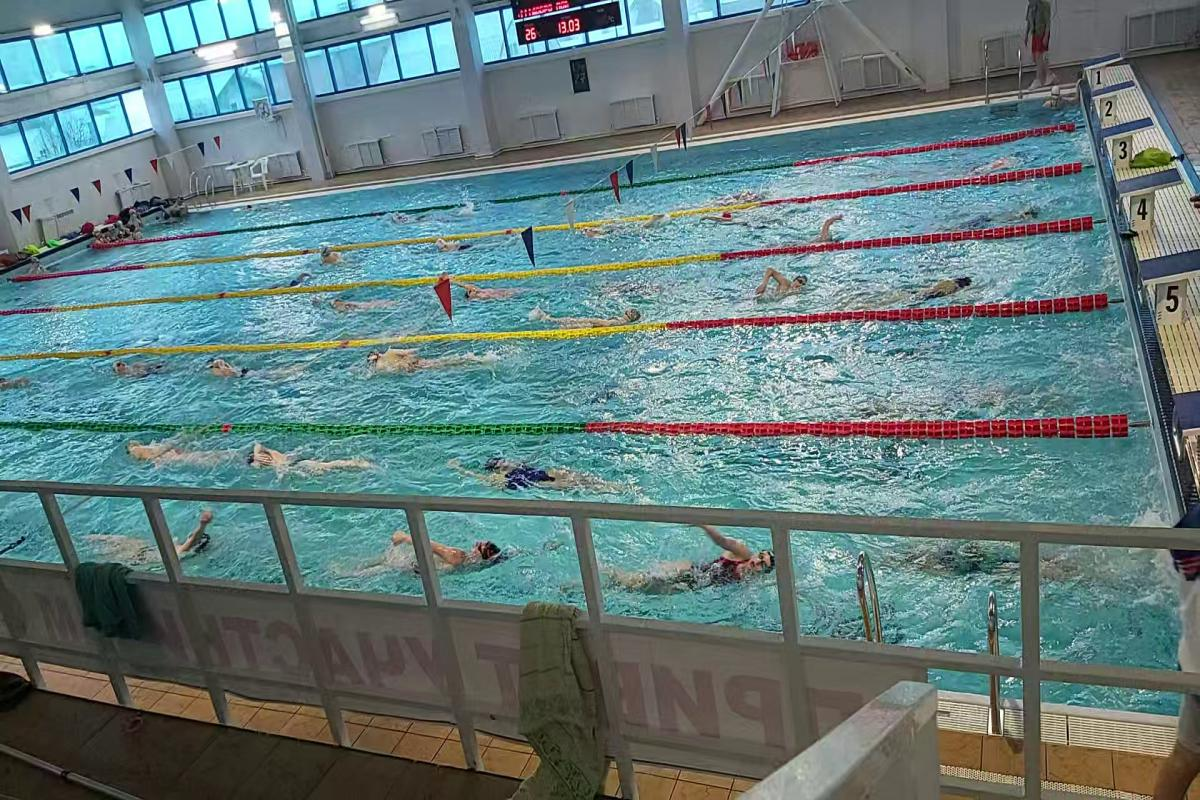swimmer: (609, 526, 773, 622), (874, 528, 1065, 584), (452, 443, 638, 499), (362, 522, 513, 584), (82, 506, 230, 561), (244, 435, 395, 488), (116, 429, 241, 475), (350, 344, 486, 384), (199, 350, 311, 388), (514, 295, 645, 326), (883, 264, 983, 304), (104, 351, 177, 386), (753, 260, 811, 303), (454, 278, 536, 303), (793, 211, 851, 243), (325, 295, 407, 315), (699, 209, 752, 233), (311, 243, 363, 267), (426, 236, 486, 256), (277, 273, 312, 288)
